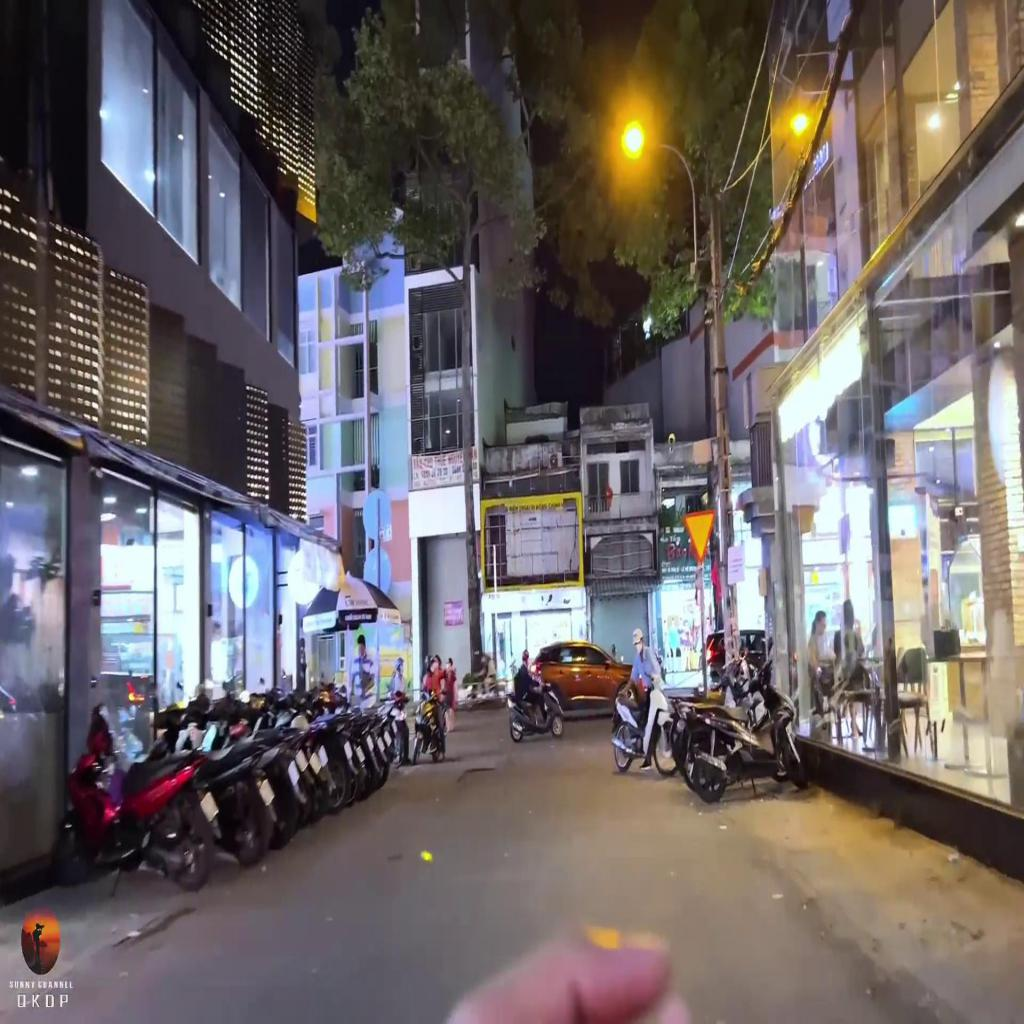giao_nhau_voi_duong_uu_tien: (682, 512, 716, 564)
